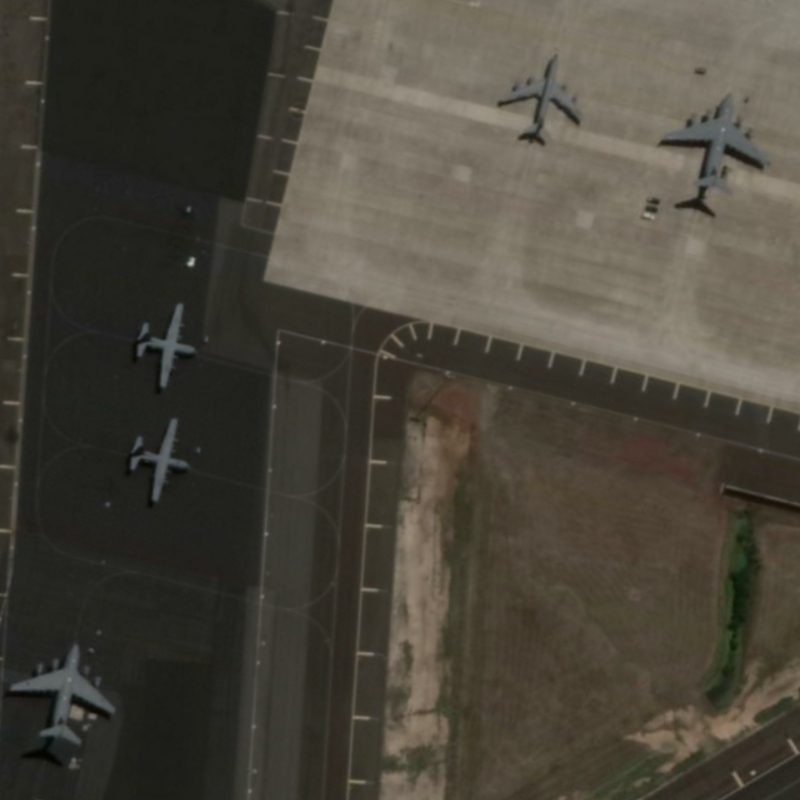A14: (494, 51, 586, 148)
A2: (123, 413, 195, 508), (131, 300, 203, 392)
A3: (658, 89, 773, 200), (8, 639, 120, 749)
